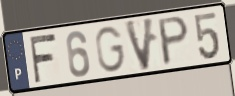5: (192, 9, 222, 60)
6: (64, 28, 91, 79)
F: (27, 31, 58, 85)
G: (93, 25, 127, 75)
P: (156, 14, 191, 68)
V: (122, 15, 157, 74)
